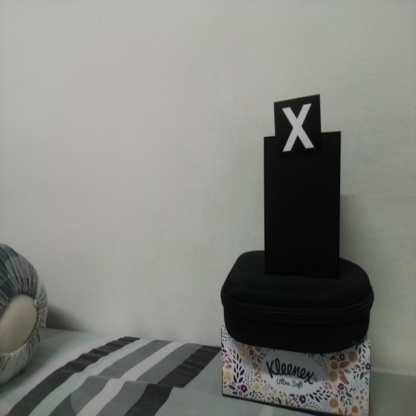id_13: (273, 100, 322, 162)
